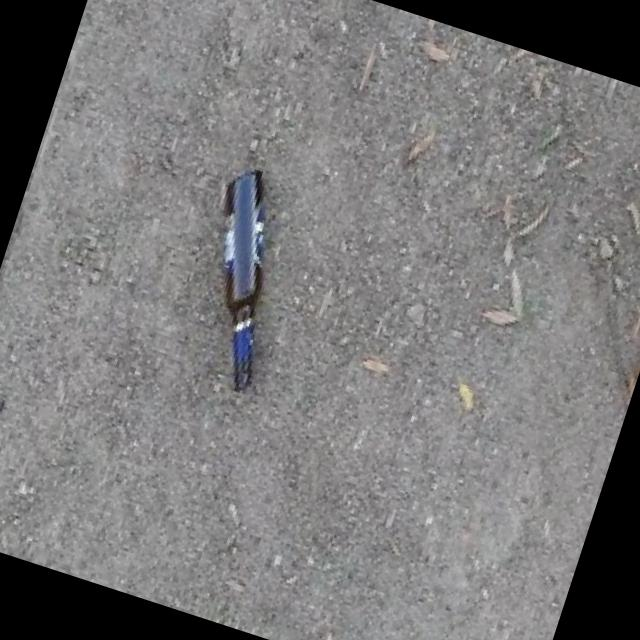BotolKaca: (167, 163, 316, 398)
